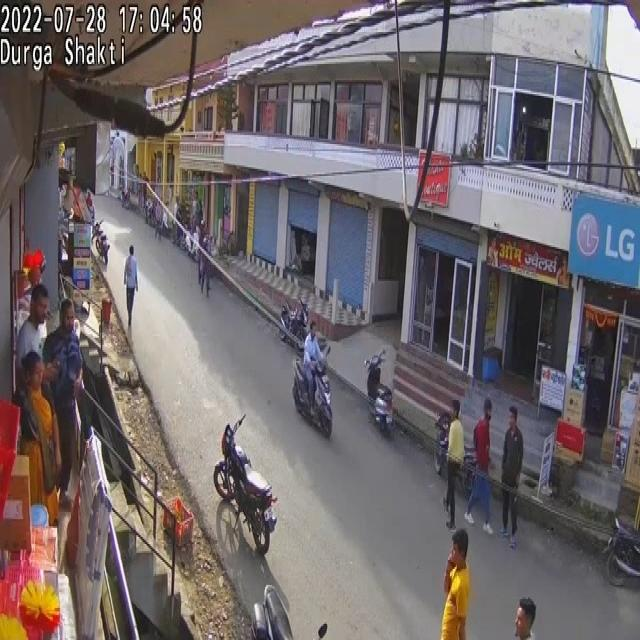non-fight: (42, 296, 84, 498), (17, 350, 61, 528), (498, 406, 524, 550), (440, 525, 471, 639), (468, 400, 494, 530), (303, 319, 325, 408), (124, 245, 138, 327), (198, 229, 214, 296), (447, 418, 465, 466), (154, 201, 162, 238)
